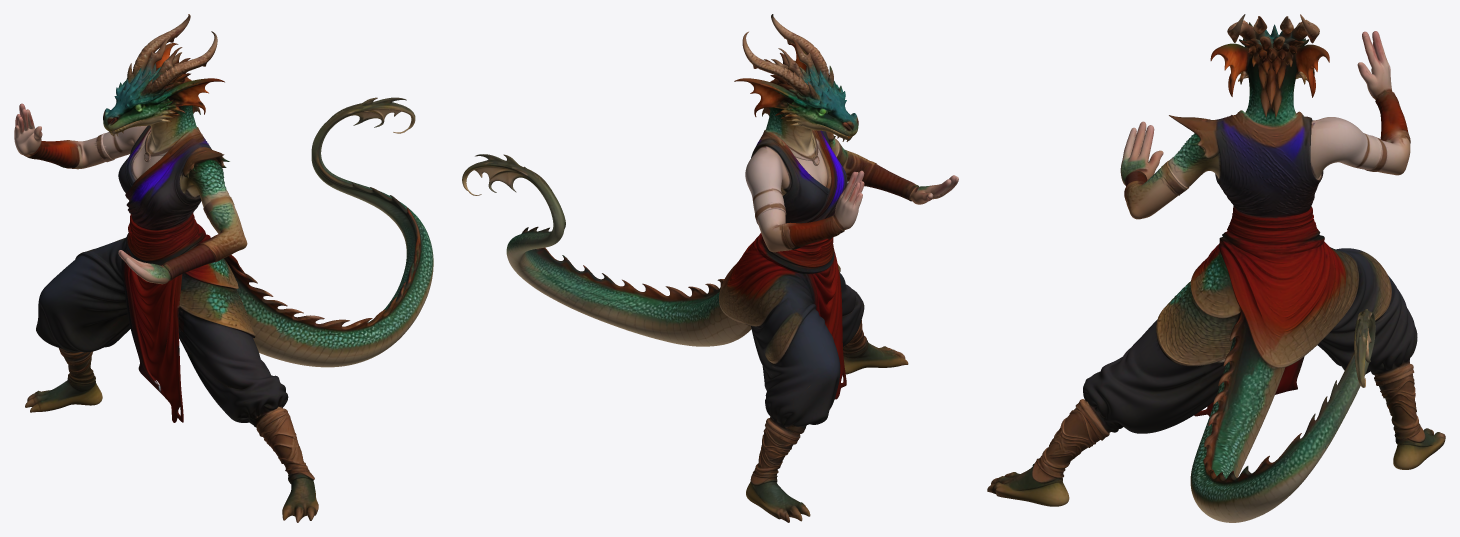
The model's file is dragonborn_monk_full_female_01.glb.
3 views of the same model, side by side, from view 1: azimuth 30°, elevation 25°; view 2: azimuth 150°, elevation 25°; view 3: azimuth 270°, elevation 25° (orthographic). The views are drawn at different scales.
Parts seen in each view (by area): view 1: material; view 2: material; view 3: material.
Boxes of the visible parts, left/top/right/bottom form: material: left=14, top=14, right=433, bottom=522; material: left=462, top=14, right=958, bottom=522; material: left=987, top=14, right=1445, bottom=522.
Size of the model in its own units: 0.7874 by 0.7818 by 0.6701.
1 material, 1 textured.
